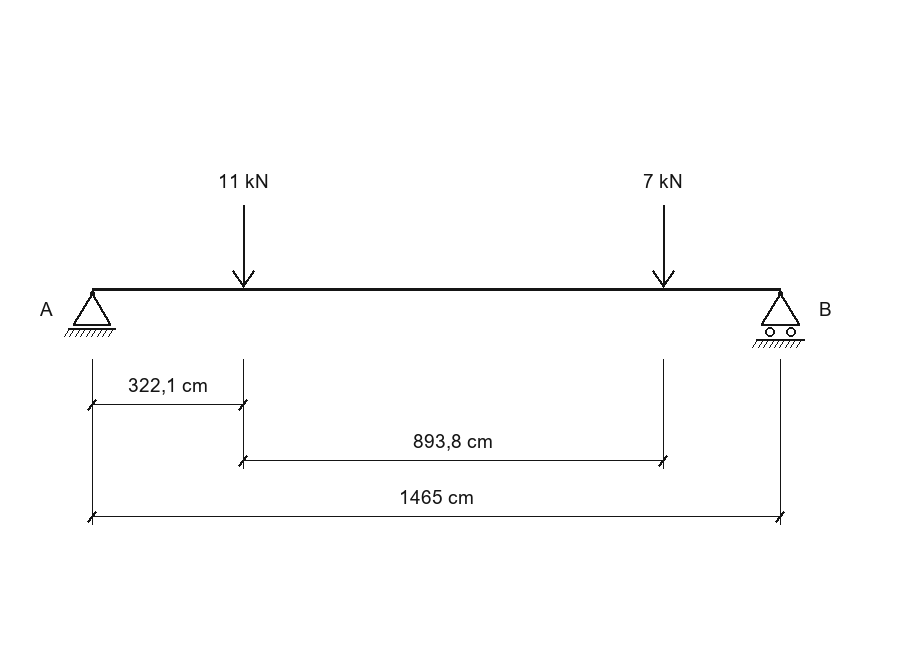pin_support: (64, 291, 116, 337)
point_load: (232, 205, 255, 288), (652, 205, 675, 288)
roller_support: (752, 291, 805, 348)
